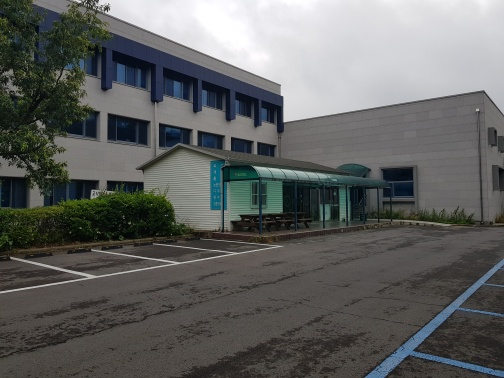College of Social Sciences: (36, 16, 499, 235), (141, 125, 404, 229)
